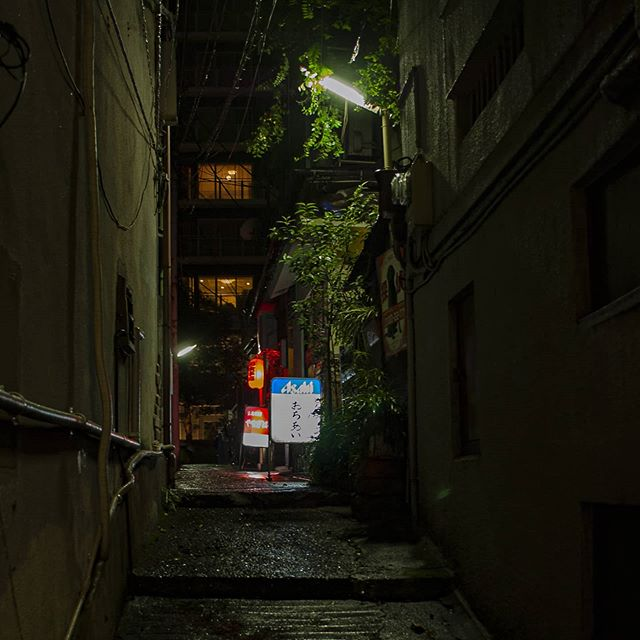building: (421, 1, 640, 640), (1, 1, 184, 618)
sign: (265, 368, 324, 460), (236, 408, 282, 452)
